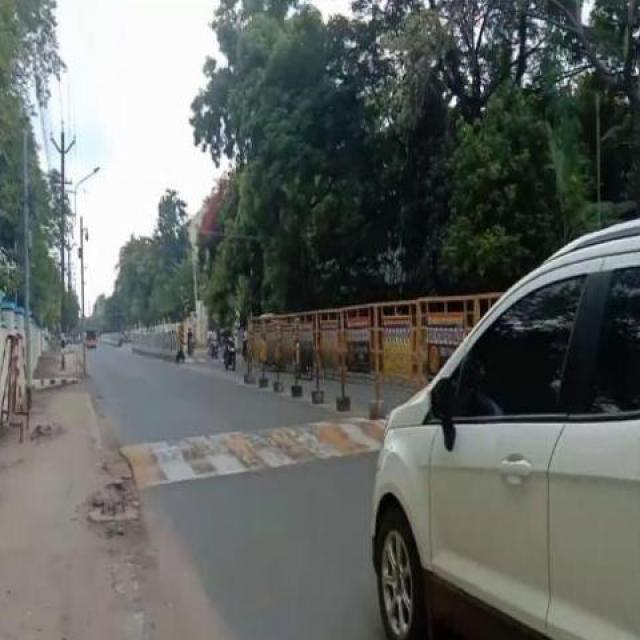Speed Bump: (118, 418, 380, 489)
